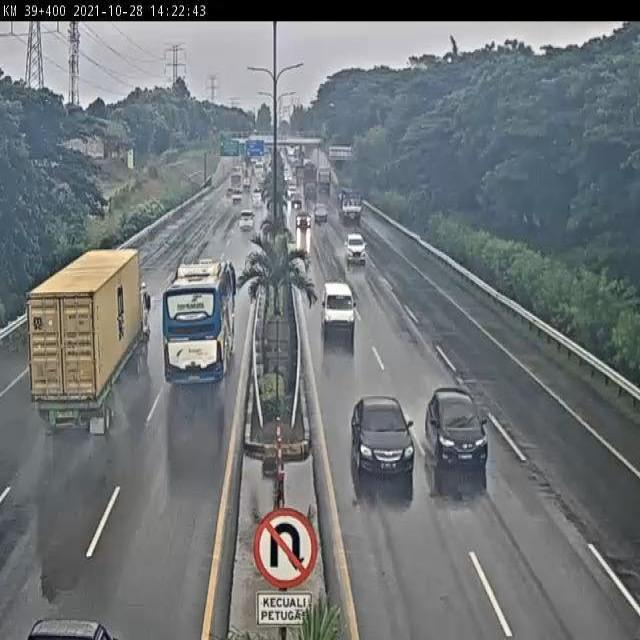bus-l-: (163, 262, 240, 386)
truck-xl-: (26, 248, 151, 433)
